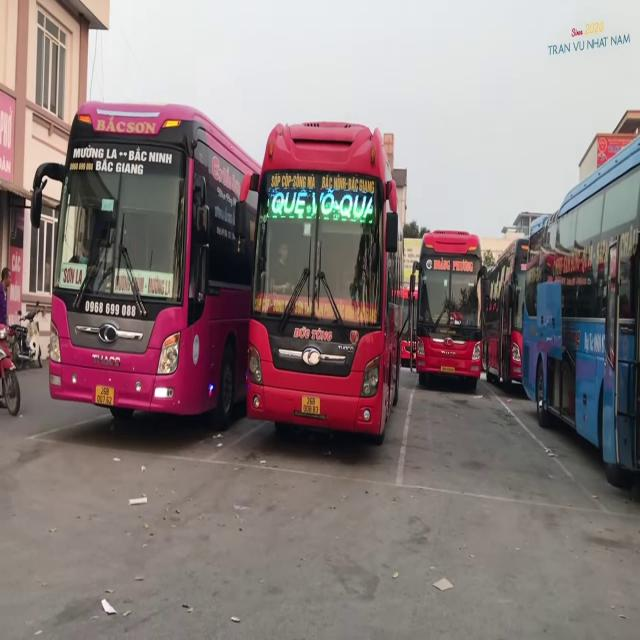bien_vang: (300, 391, 322, 417), (94, 383, 115, 409)
